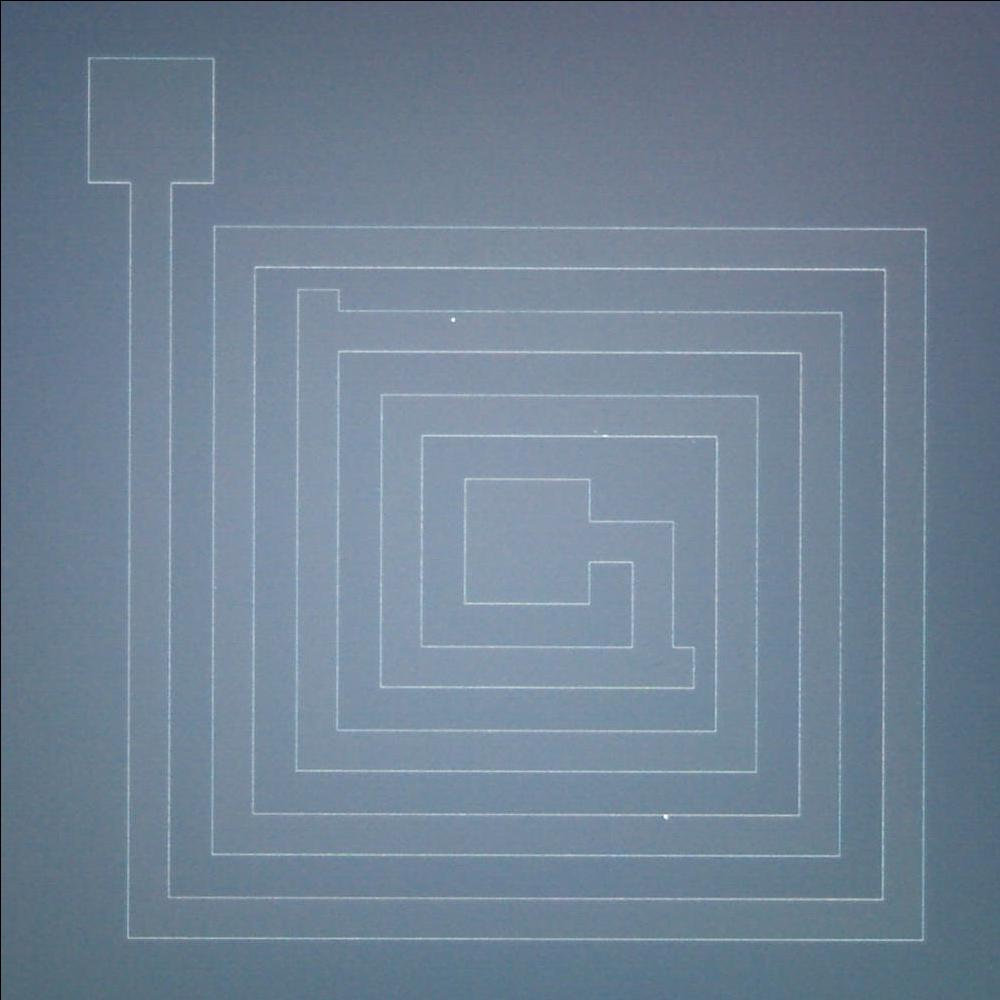budge circuit: (290, 277, 349, 323), (662, 633, 702, 696)
dot: (653, 802, 680, 826), (438, 312, 463, 334)
